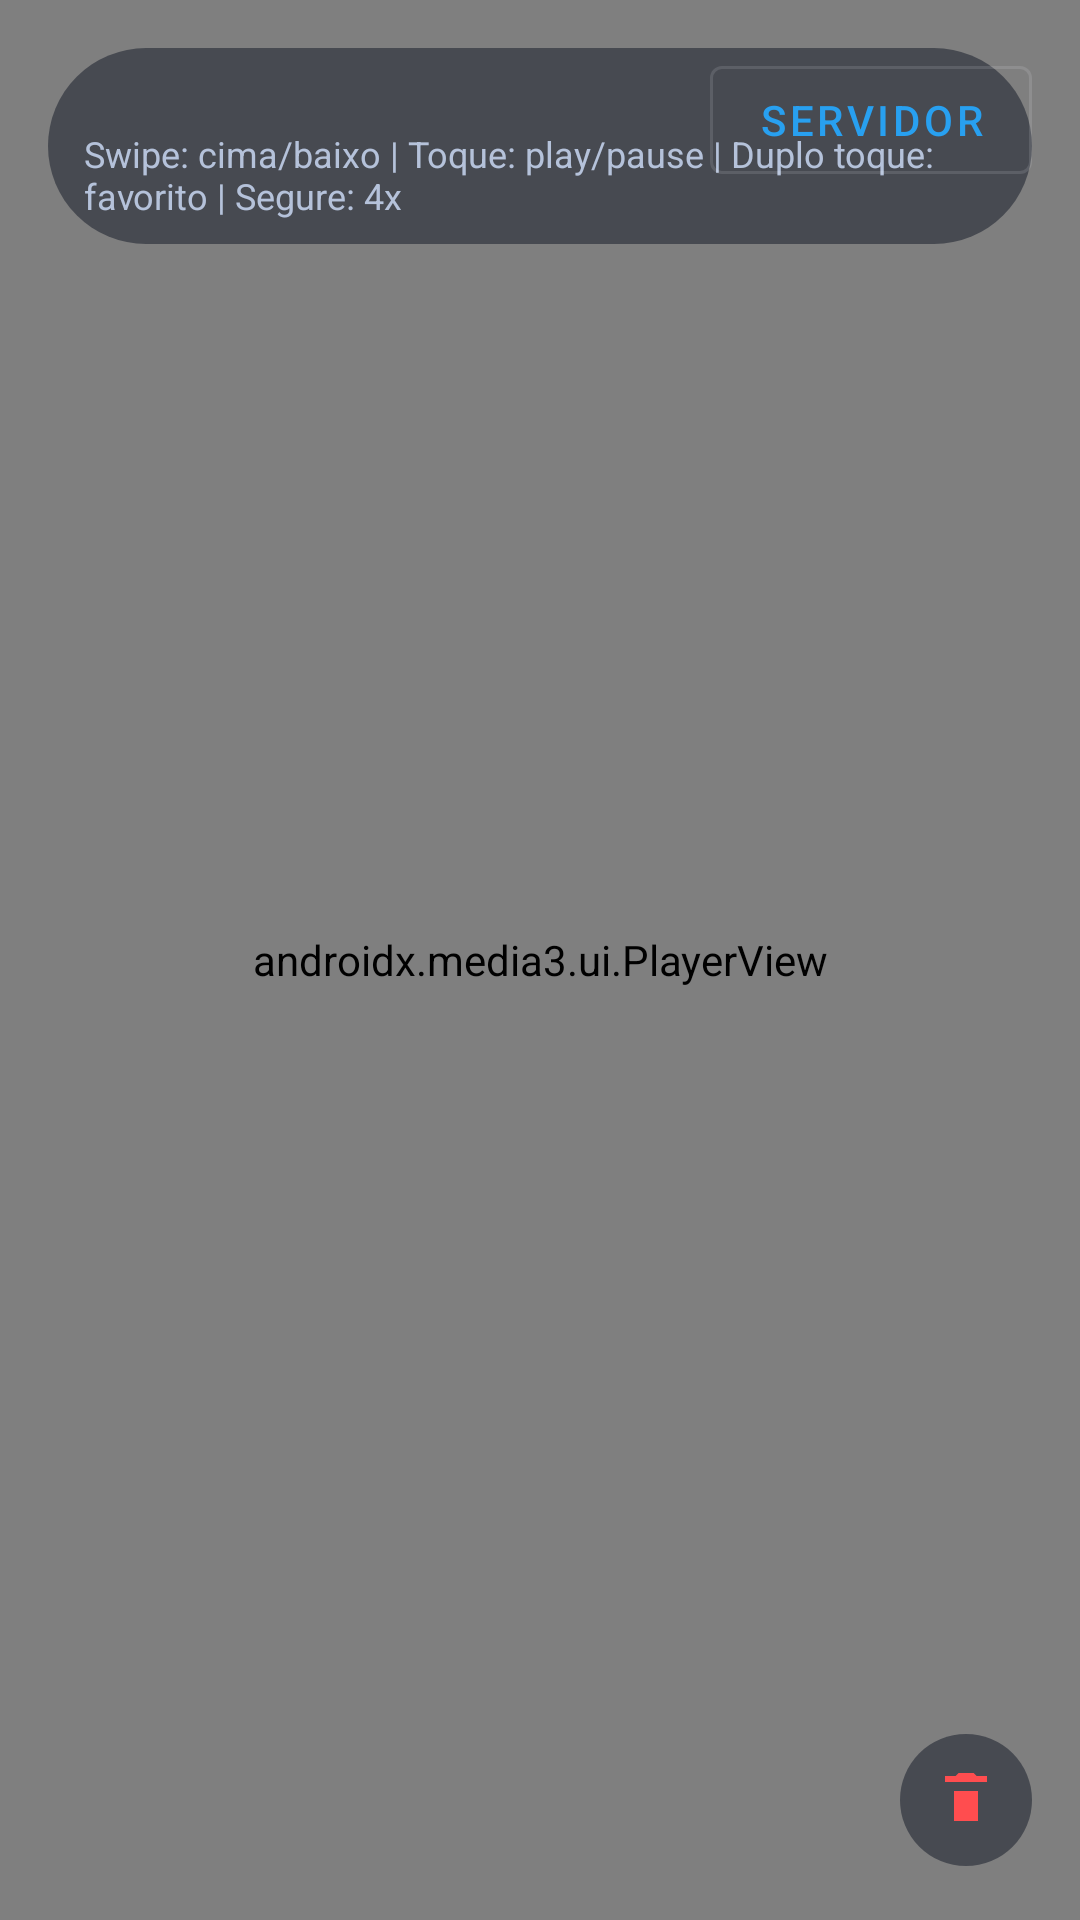

Icons on this 1080w x 1920h Android screen, each with the point to tap as (x,y):
Remover video permanentemente: (966,1800)
